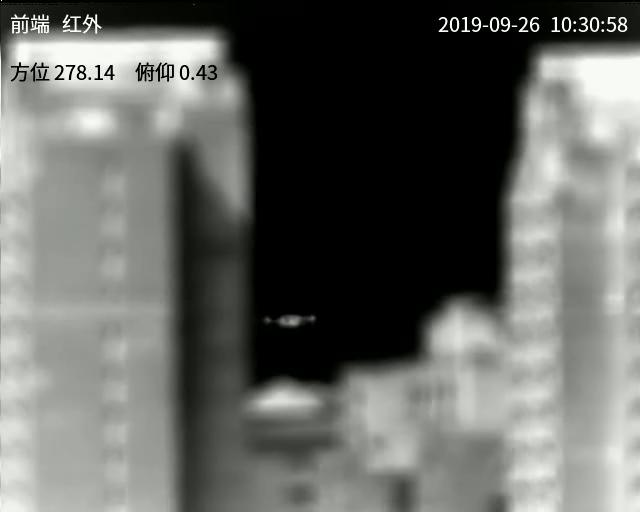uav: (260, 307, 320, 333)
